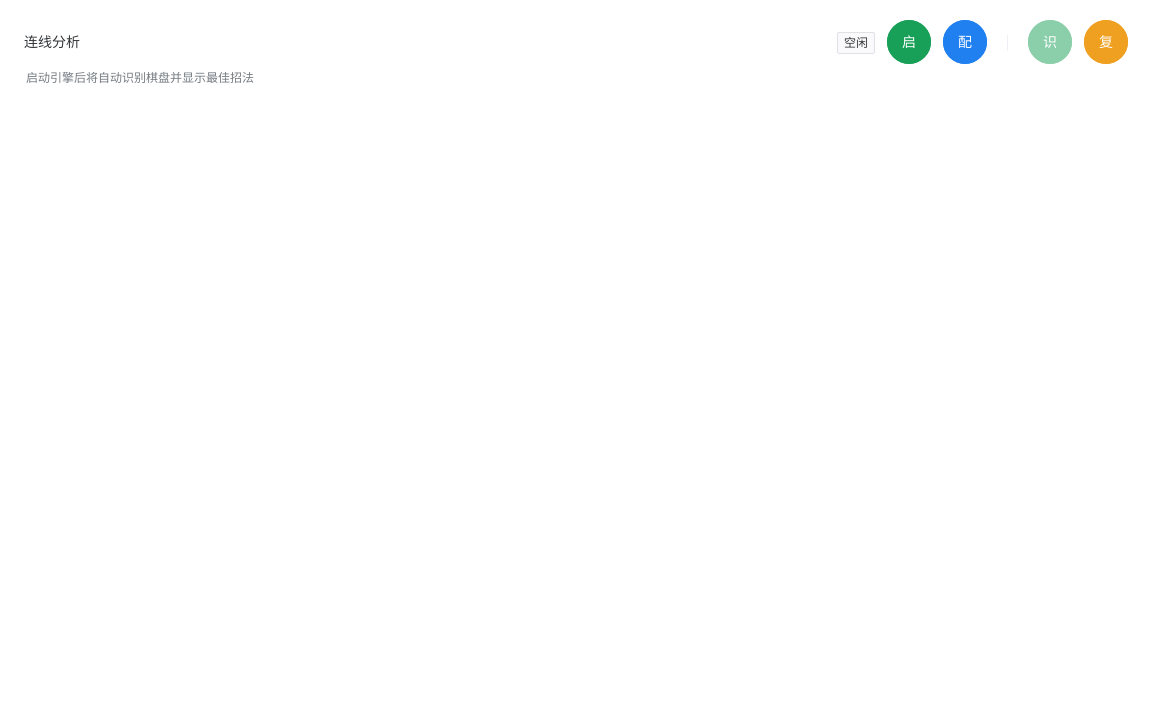
Toolbar › 点击启动且无可用窗口时弹出警告
Click the button "启".
click(909, 42)  # box [887,20,931,64]
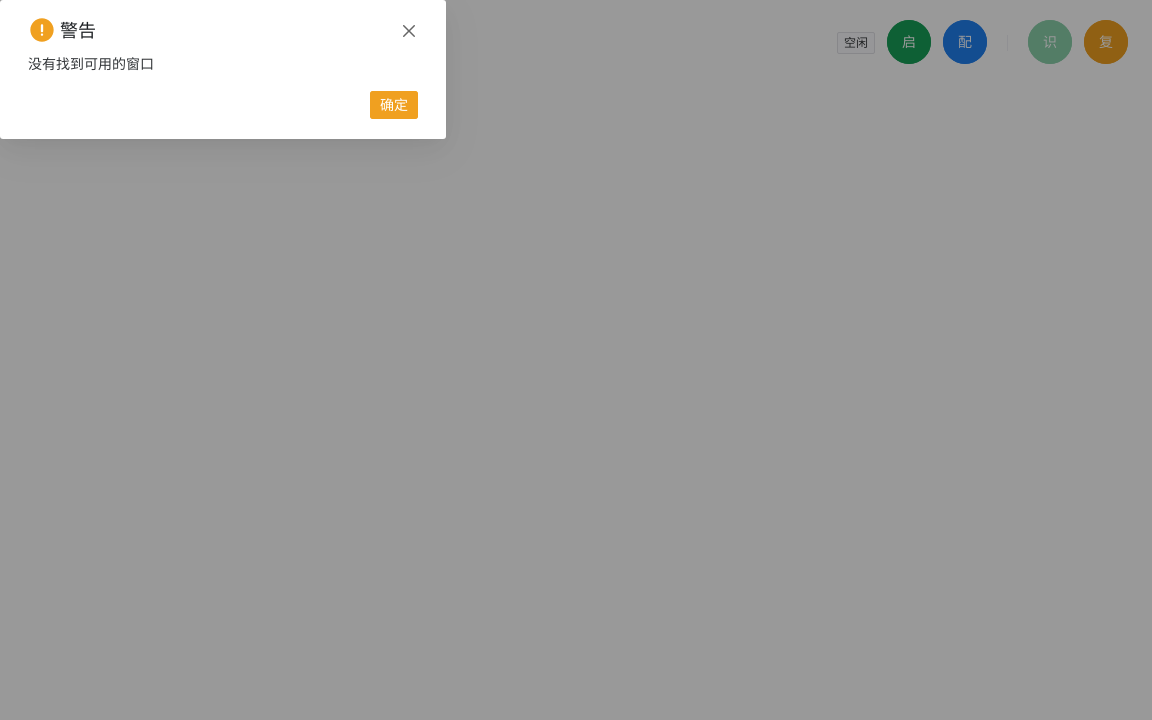
Check: the text "没有找到可用的窗口" is shown, box [28,54,154,73]
